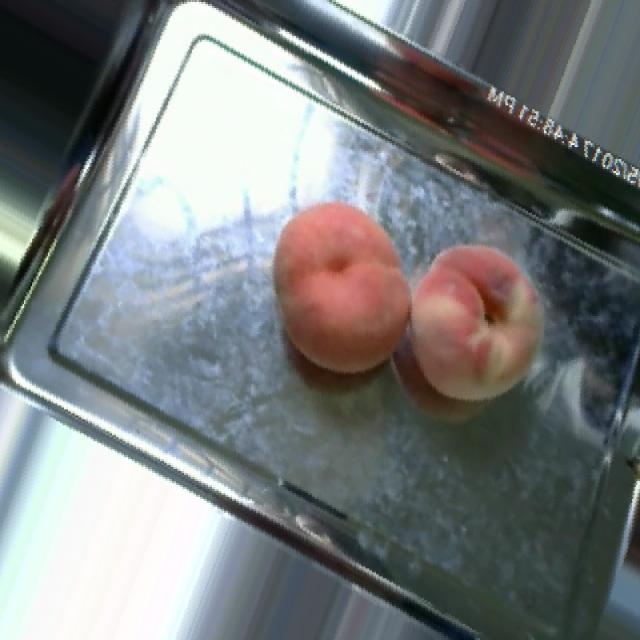Fruit: (246, 175, 422, 397), (393, 223, 564, 425)
